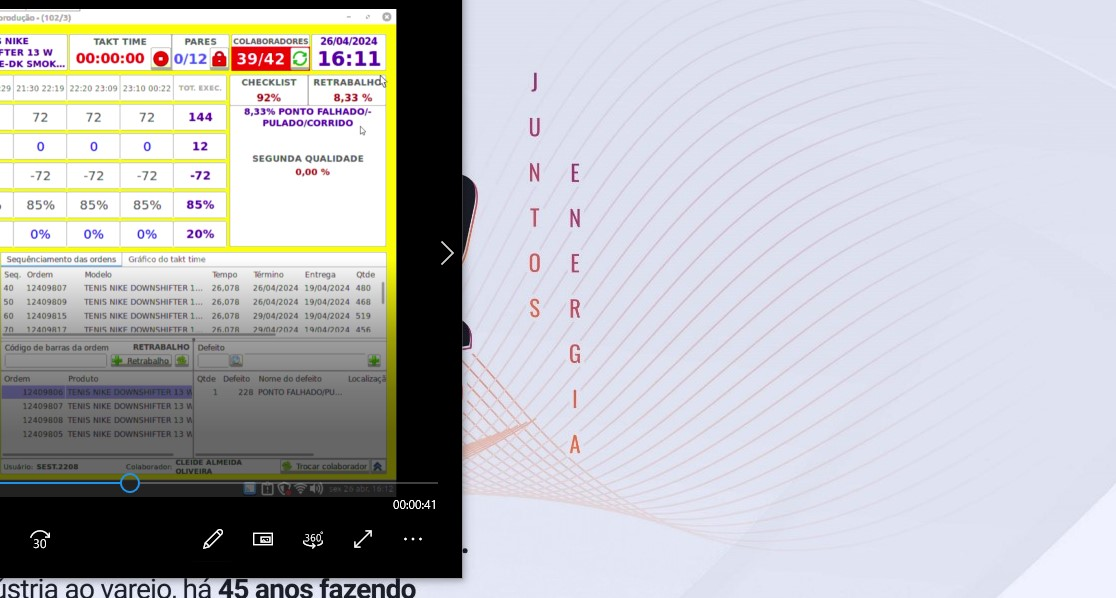takt_time: (72, 34, 150, 68)
